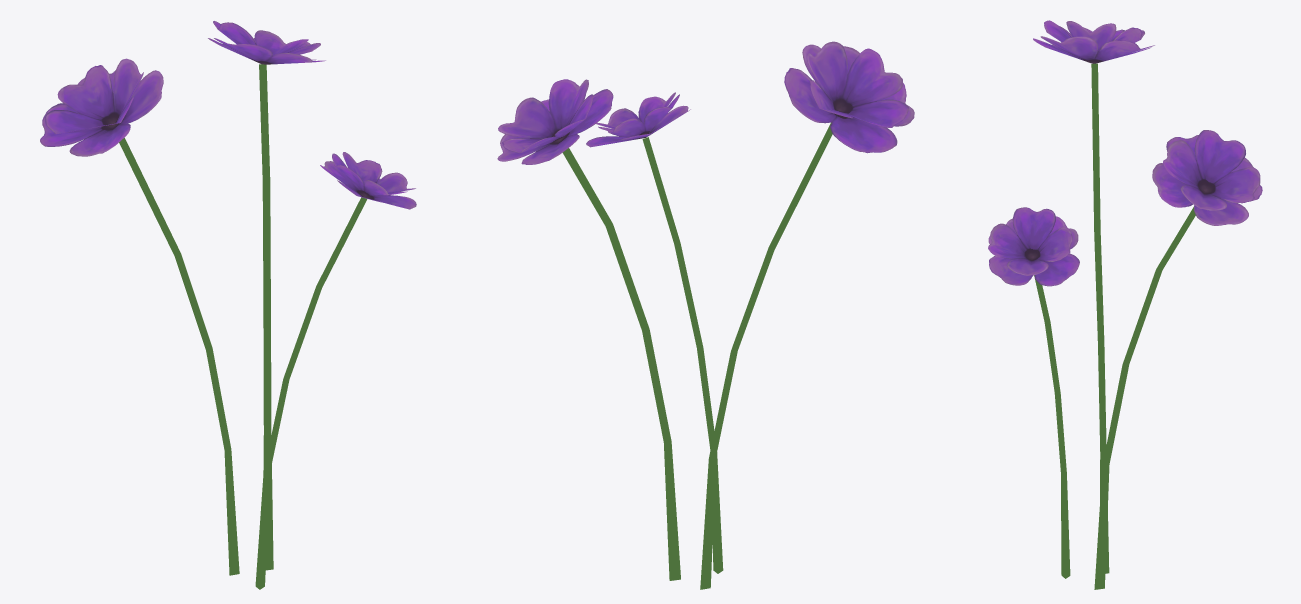
The model's file is SM_Flower_02_01.fbx.
3 views of the same model, side by side, from view 1: azimuth 30°, elevation 25°; view 2: azimuth 150°, elevation 25°; view 3: azimuth 270°, elevation 25° (orthographic). The views are drawn at different scales.
Parts seen in each view (by area): view 1: SM_Flower_02_01_LOD0; view 2: SM_Flower_02_01_LOD0; view 3: SM_Flower_02_01_LOD0.
Boxes of the visible parts, <box> form: SM_Flower_02_01_LOD0: <box>40,21,416,589</box>; SM_Flower_02_01_LOD0: <box>497,41,914,589</box>; SM_Flower_02_01_LOD0: <box>988,20,1262,589</box>.
Size of what is drawn, in the model's own units: 44.51 by 65.41 by 36.06.
